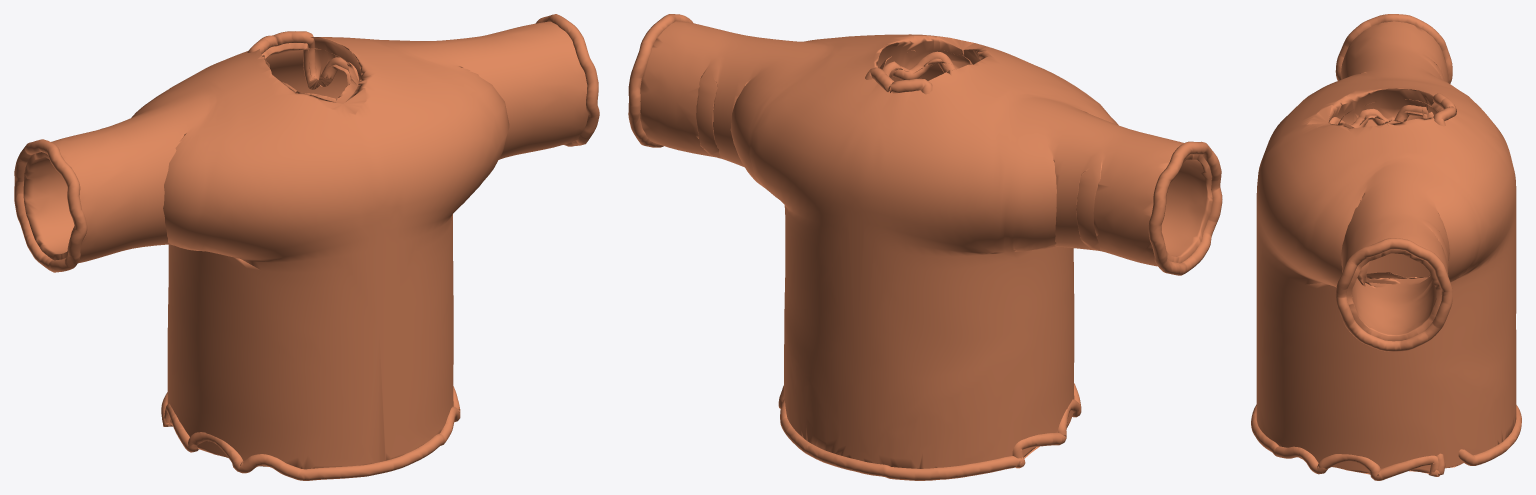
File: 4HT-masculino.glb
3 renders of one model, left to right at view 1: azimuth 30°, elevation 25°; view 2: azimuth 150°, elevation 25°; view 3: azimuth 270°, elevation 25°, orthographic. The views are drawn at different scales.
Parts seen in each view (by area): view 1: fitted-shell, bound-edge (×4); view 2: fitted-shell, bound-edge (×4); view 3: fitted-shell, bound-edge (×4).
Boxes of the visible parts, bbox=[...] form: fitted-shell: bbox=[23, 21, 588, 469]; bound-edge (×4): bbox=[14, 14, 599, 480]; fitted-shell: bbox=[640, 21, 1212, 468]; bound-edge (×4): bbox=[628, 14, 1222, 480]; fitted-shell: bbox=[1256, 21, 1516, 474]; bound-edge (×4): bbox=[1251, 14, 1521, 480].
Size of the model in its own units: 0.0632 by 0.0412 by 0.0312.
